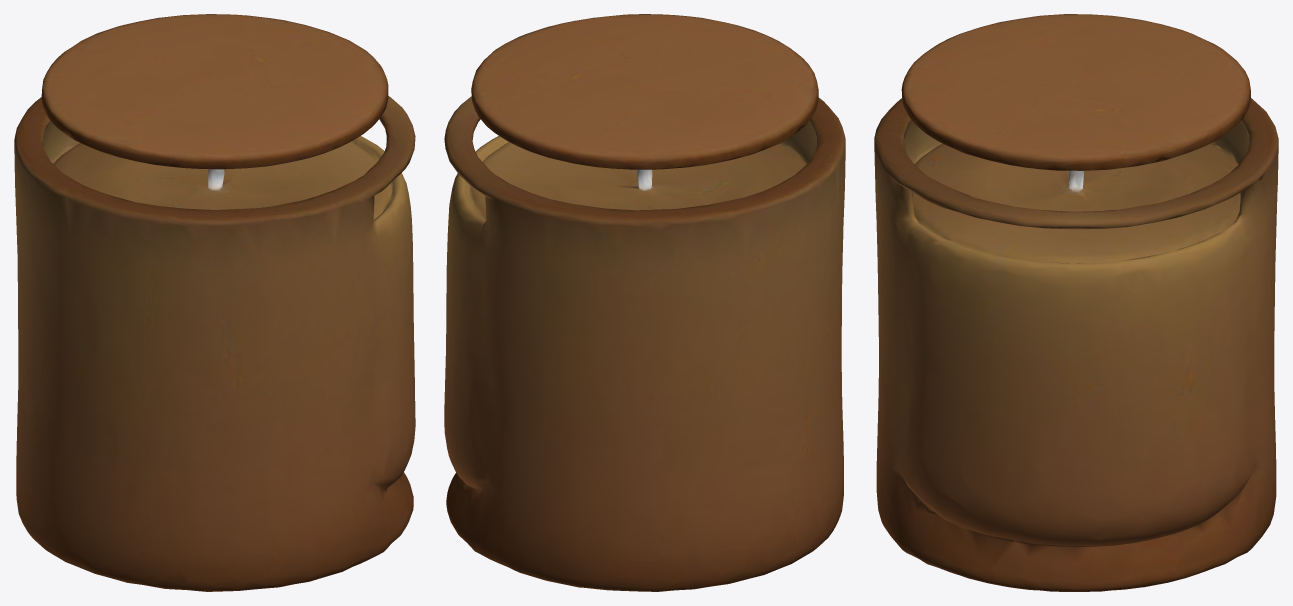
The model's file is candle-v1.glb.
3 views of the same model, side by side, from view 1: azimuth 30°, elevation 25°; view 2: azimuth 150°, elevation 25°; view 3: azimuth 270°, elevation 25° (orthographic).
Parts seen in each view (by area): view 1: prop__candle; view 2: prop__candle; view 3: prop__candle.
Part boxes in pixels (x1,y1,x2,y2): prop__candle: [14, 14, 415, 591]; prop__candle: [444, 14, 845, 591]; prop__candle: [874, 14, 1278, 591].
Bounding box in the file's own units: 0.0932 × 0.11 × 0.0933.
Materials: 1 (1 with a texture image).
